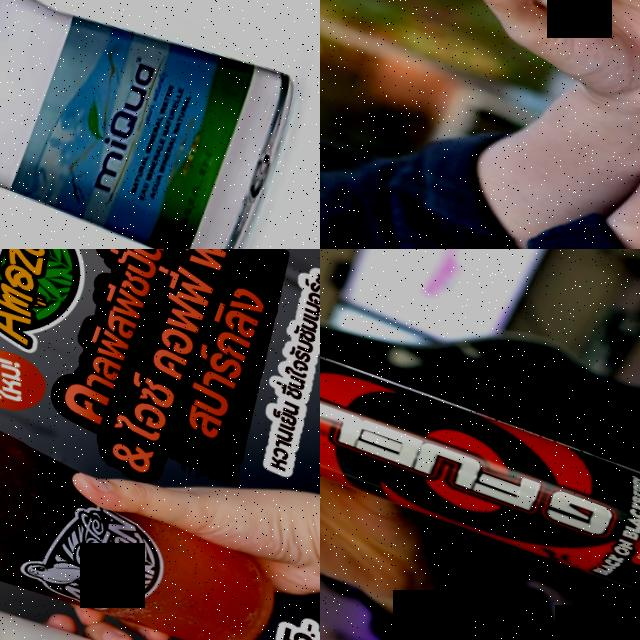bottle: (0, 0, 312, 249)
can: (320, 309, 640, 603)
cup: (0, 383, 304, 640)
